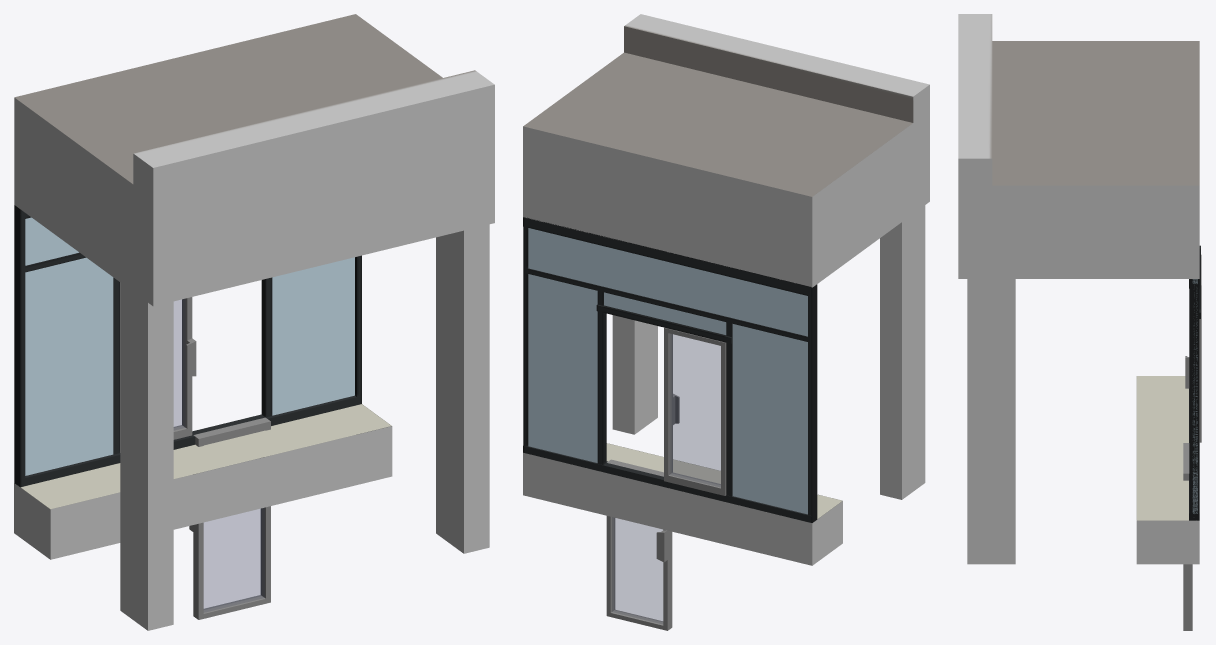
File: Shop_wall_front_type2.FBX
3 renders of one model, left to right at view 1: azimuth 30°, elevation 25°; view 2: azimuth 150°, elevation 25°; view 3: azimuth 270°, elevation 25°, orthographic. The views are drawn at different scales.
Visible parts, largest first — view 1: Shop_wall_front_type2_Entrance_002, Shop_door_type1_006, Shop_door_type1_007; view 2: Shop_wall_front_type2_Entrance_002, Shop_door_type1_007, Shop_door_type1_006; view 3: Shop_wall_front_type2_Entrance_002, Shop_door_type1_006, Shop_door_type1_007.
Part boxes in pixels (x1,y1,x2,y2): Shop_wall_front_type2_Entrance_002: (14,14,494,630); Shop_door_type1_006: (189,417,270,619); Shop_door_type1_007: (120,282,196,452); Shop_wall_front_type2_Entrance_002: (523,14,929,565); Shop_door_type1_007: (664,327,726,495); Shop_door_type1_006: (606,459,672,630); Shop_wall_front_type2_Entrance_002: (958,14,1200,564); Shop_door_type1_006: (1183,443,1192,630); Shop_door_type1_007: (1185,254,1201,442).
Size of the model in its own units: 1218 by 2009 by 865.
3 materials, 1 textured.
